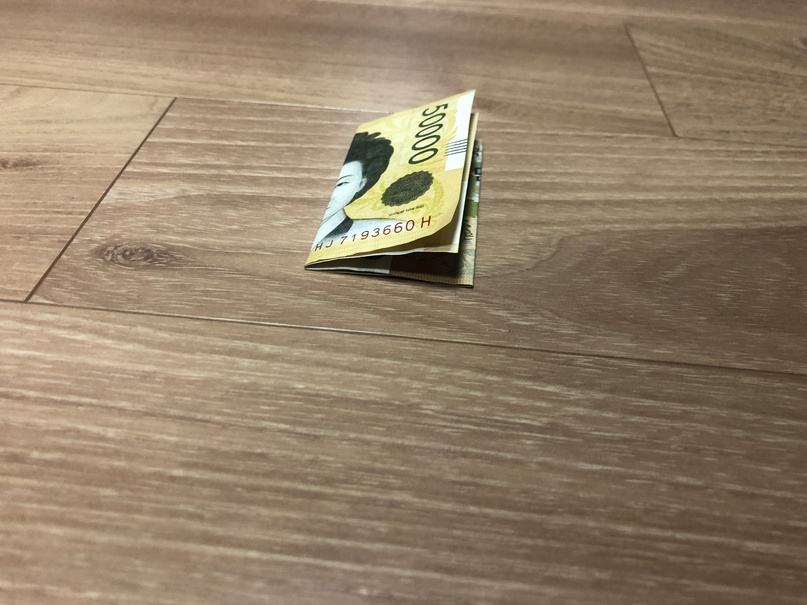50000won: (304, 89, 484, 290)
